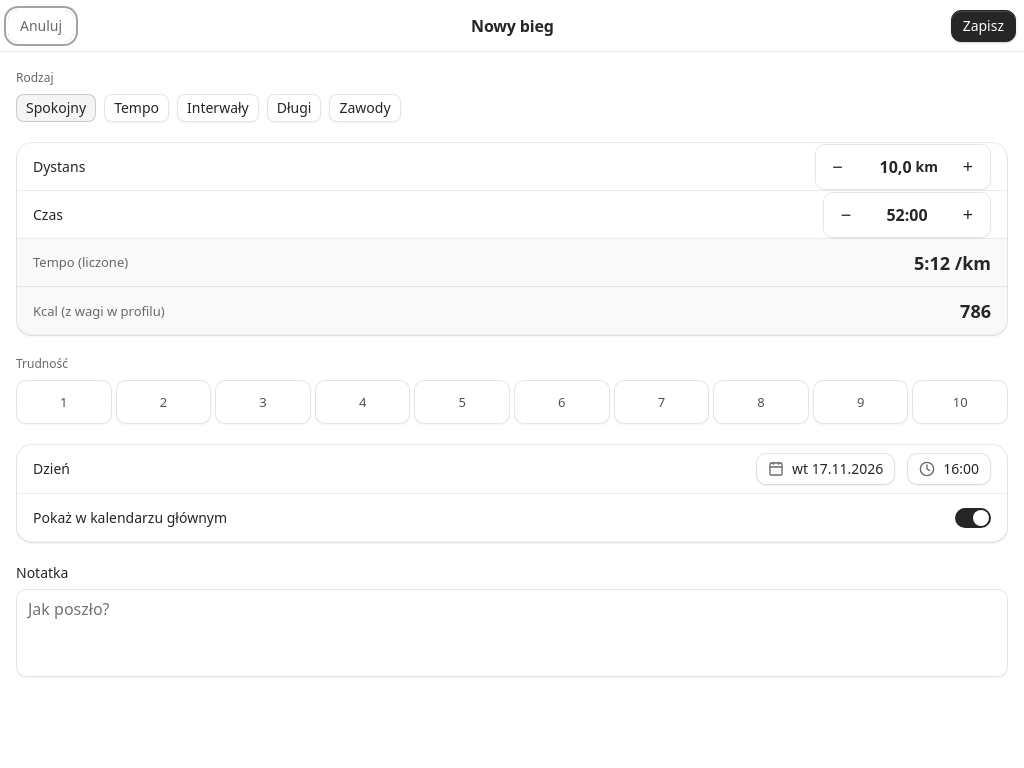
Test: MRunNew › −/+ dystansu (0,5 km) i czasu (1 min) przeliczają tempo
Click the button named "Więcej" at (968, 166), box [946,144,990,188]
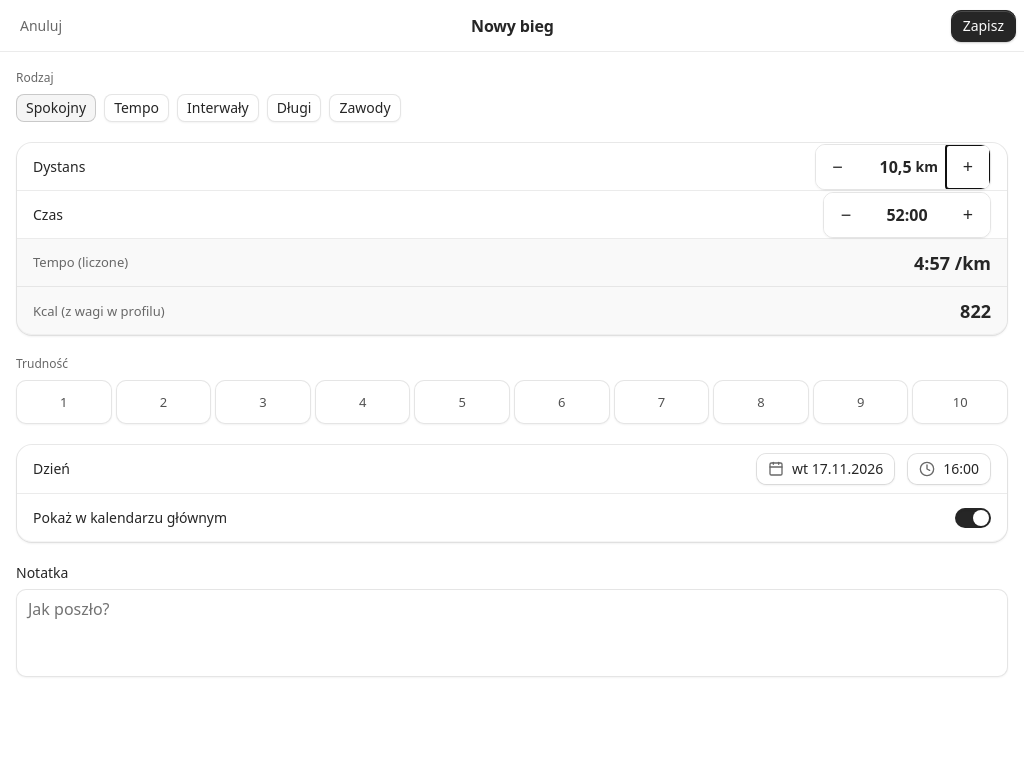
Result: the field named "Dystans (km)" holds "10,5" at [860,144,912,188]
Click the button named "Mniej" at (838, 166), box [816,144,860,188]
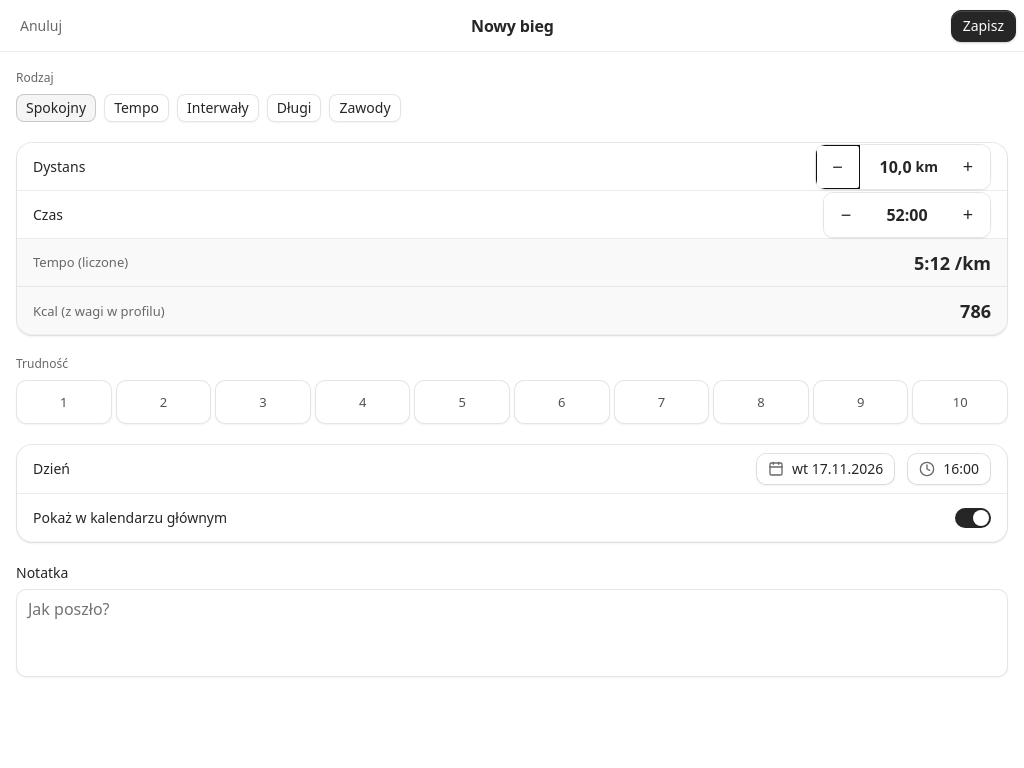
Click the button named "Mniej" at (838, 166), box [816,144,860,188]
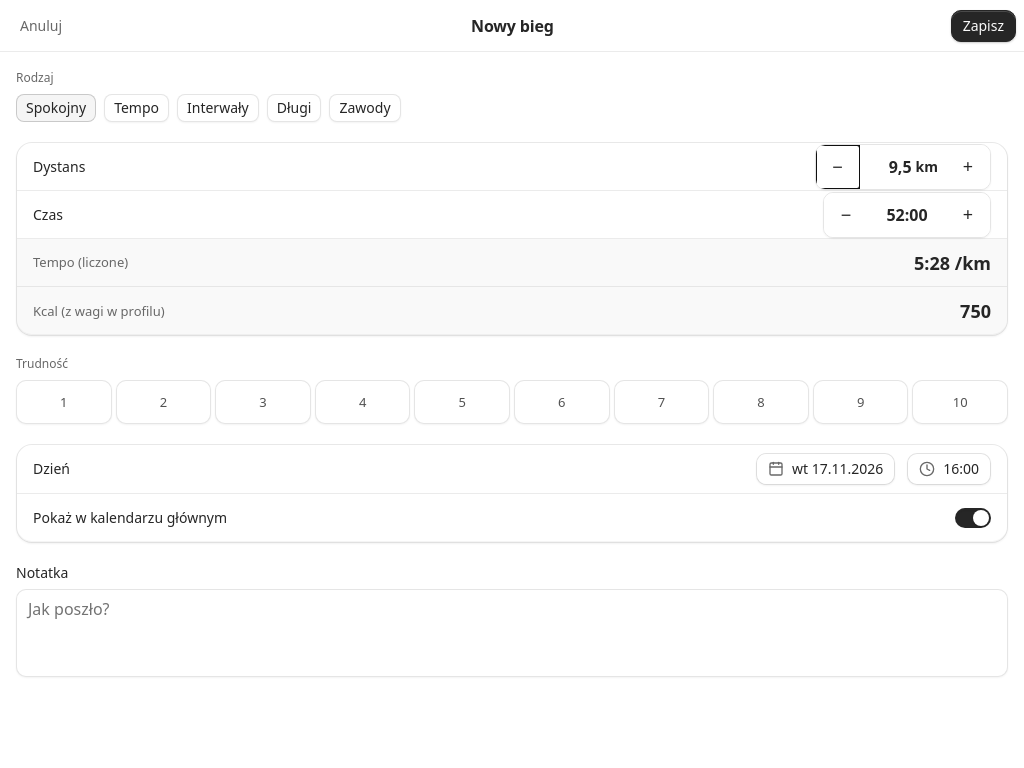
Result: the field named "Dystans (km)" holds "9,5" at [860,144,912,188]
Click the button named "Dłużej" at (968, 214), box [946,192,990,236]
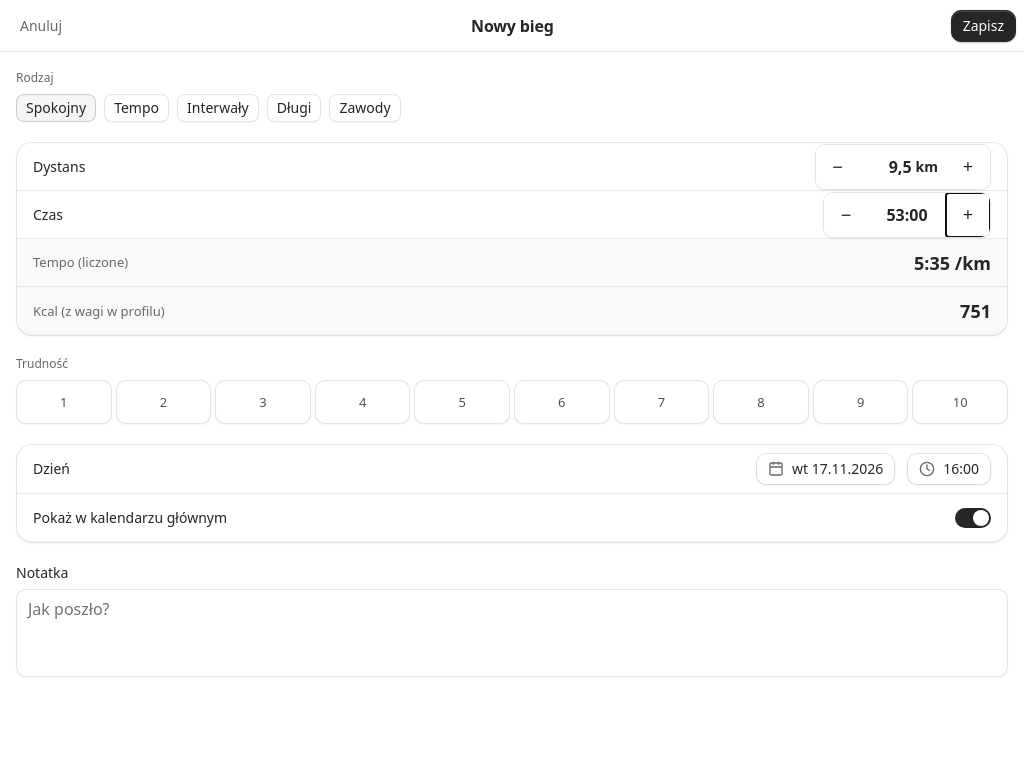
Result: the field labelled "Czas" holds "53:00" at [868,192,946,236]
Click the button named "Krócej" at (846, 214), box [824,192,868,236]
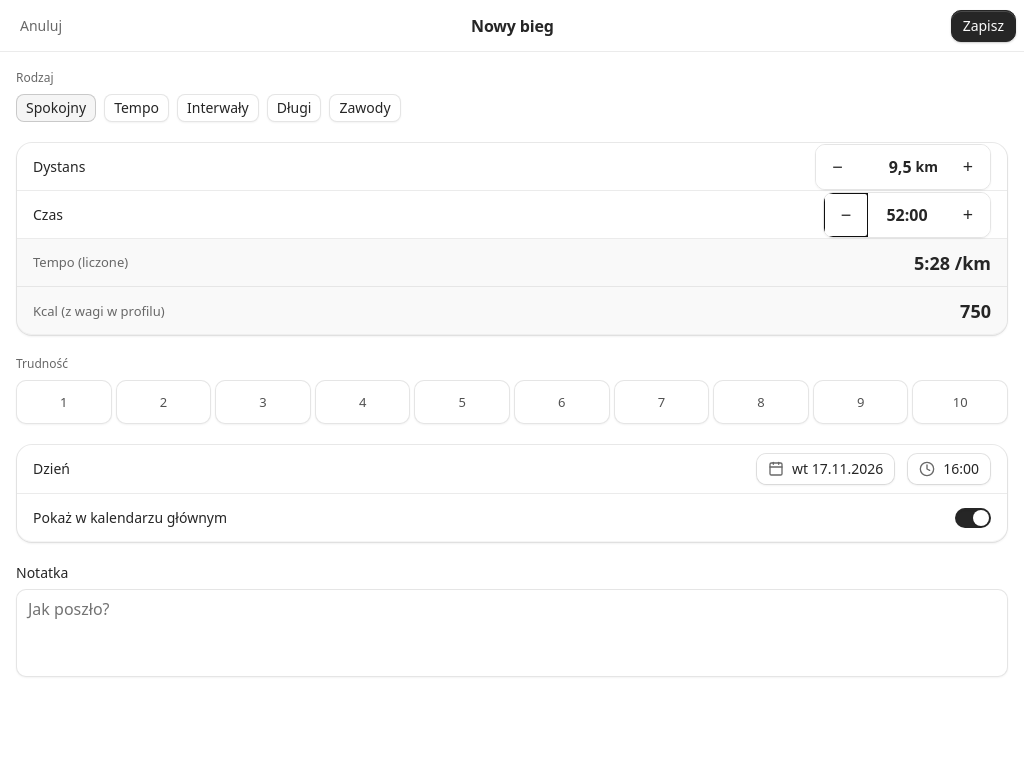
Click the button named "Krócej" at (846, 214), box [824,192,868,236]
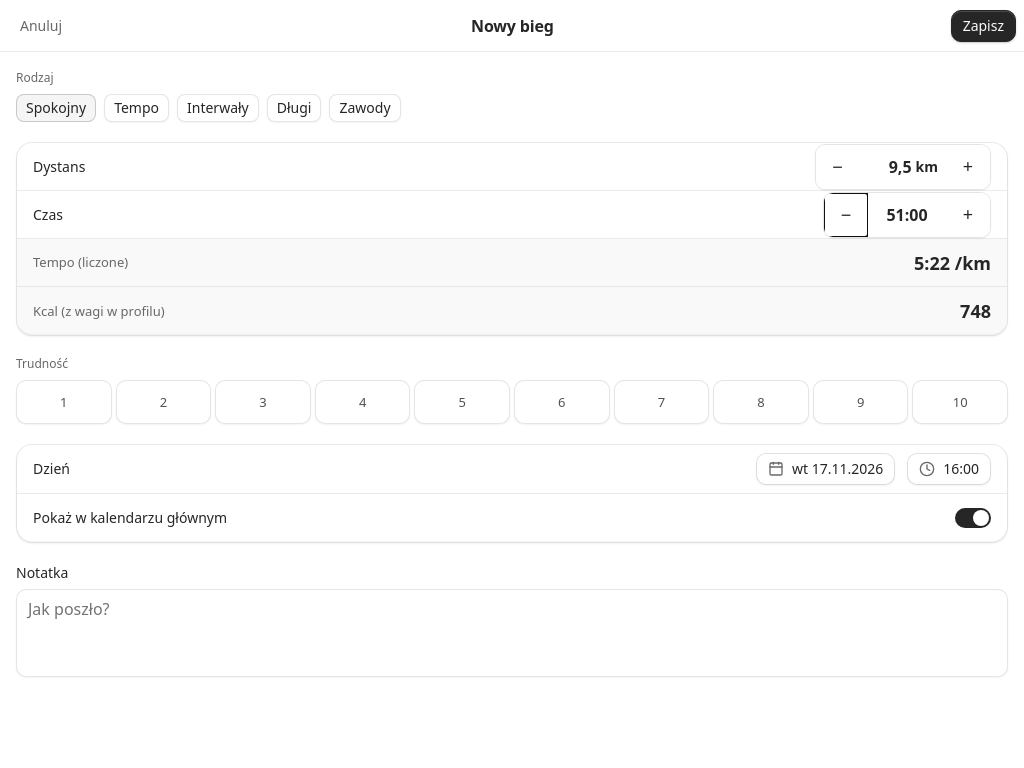
Result: the field labelled "Czas" holds "51:00" at [868,192,946,236]
Result: the text with test id "tempo" reads "5:22 /km" at [914,250,991,274]
